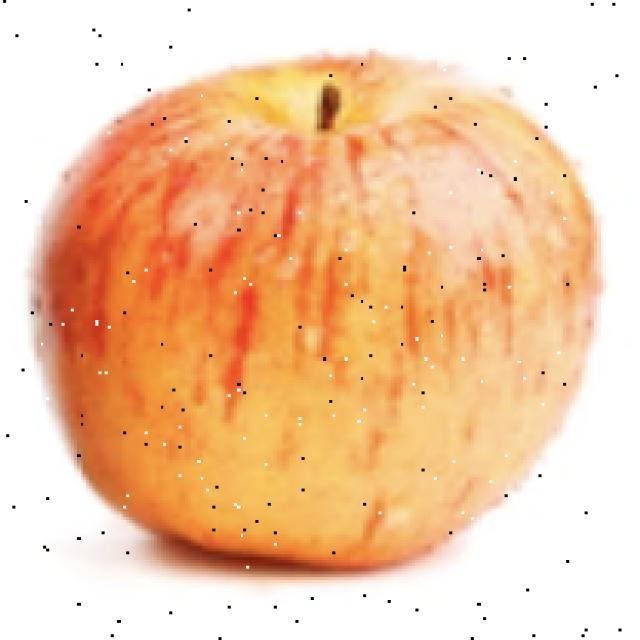Fresh Apple: (61, 68, 572, 582)
